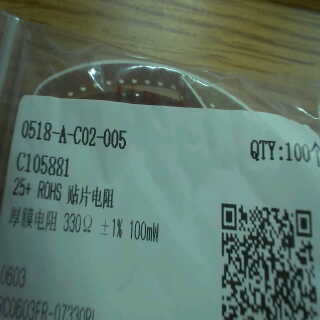330R: (63, 211, 95, 235)
